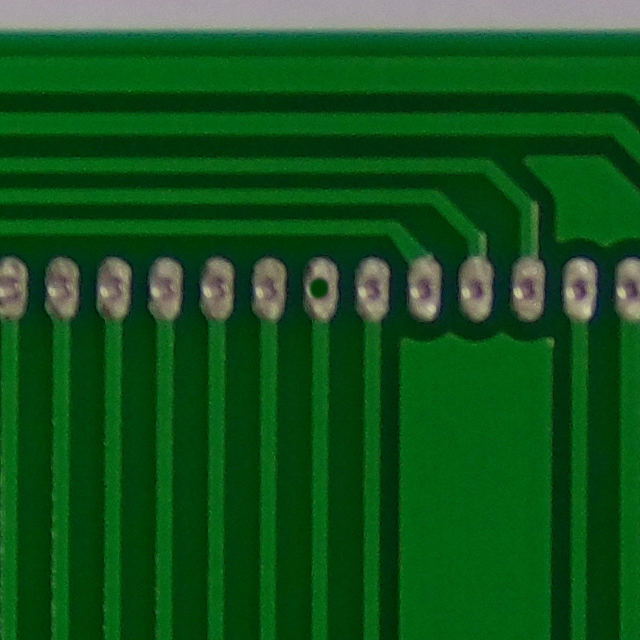missing_hole: (293, 255, 347, 319)
